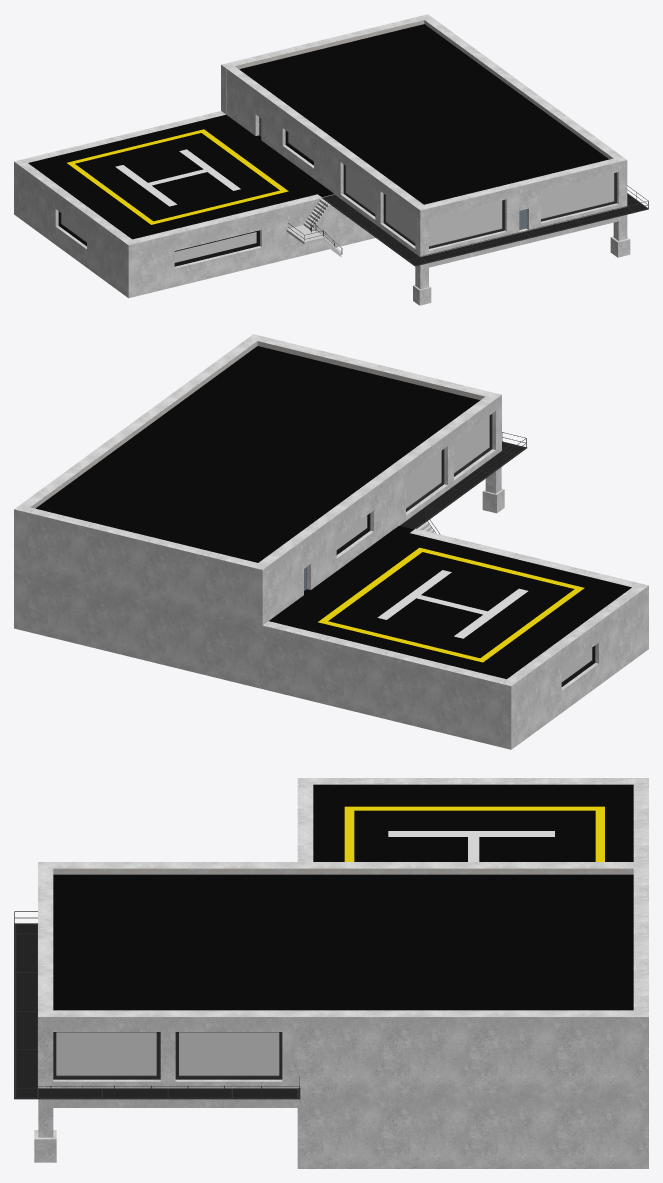
The model's file is military-hq.walls-v1.lod0.glb.
3 renders of one model, top to bottom at view 1: azimuth 30°, elevation 25°; view 2: azimuth 150°, elevation 25°; view 3: azimuth 270°, elevation 25°, orthographic. The views are drawn at different scales.
Visible parts, largest first — view 1: Walls_Floor_2_0, Walls_Outer_Walls_0, Railing_Railing_0, Walls_Inner_walls_0; view 2: Walls_Floor_2_0, Walls_Outer_Walls_0, Walls_Inner_walls_0, Railing_Railing_0; view 3: Walls_Floor_2_0, Walls_Outer_Walls_0, Railing_Railing_0, Walls_Inner_walls_0.
Part boxes in pixels (box(x1,y1,x2,y2)): Walls_Floor_2_0: box(28, 24, 646, 266); Walls_Outer_Walls_0: box(14, 14, 630, 305); Railing_Railing_0: box(288, 164, 648, 266); Walls_Inner_walls_0: box(34, 20, 613, 161); Walls_Floor_2_0: box(36, 346, 631, 686); Walls_Outer_Walls_0: box(14, 334, 648, 749); Walls_Inner_walls_0: box(30, 341, 631, 587); Railing_Railing_0: box(399, 414, 527, 534); Walls_Floor_2_0: box(16, 784, 633, 1097); Walls_Outer_Walls_0: box(34, 778, 648, 1168); Railing_Railing_0: box(14, 911, 300, 1099); Walls_Inner_walls_0: box(53, 868, 633, 874).
Size of the model in its own units: 40.21 by 8.91 by 33.7.
Materials: 6 (4 with a texture image).
